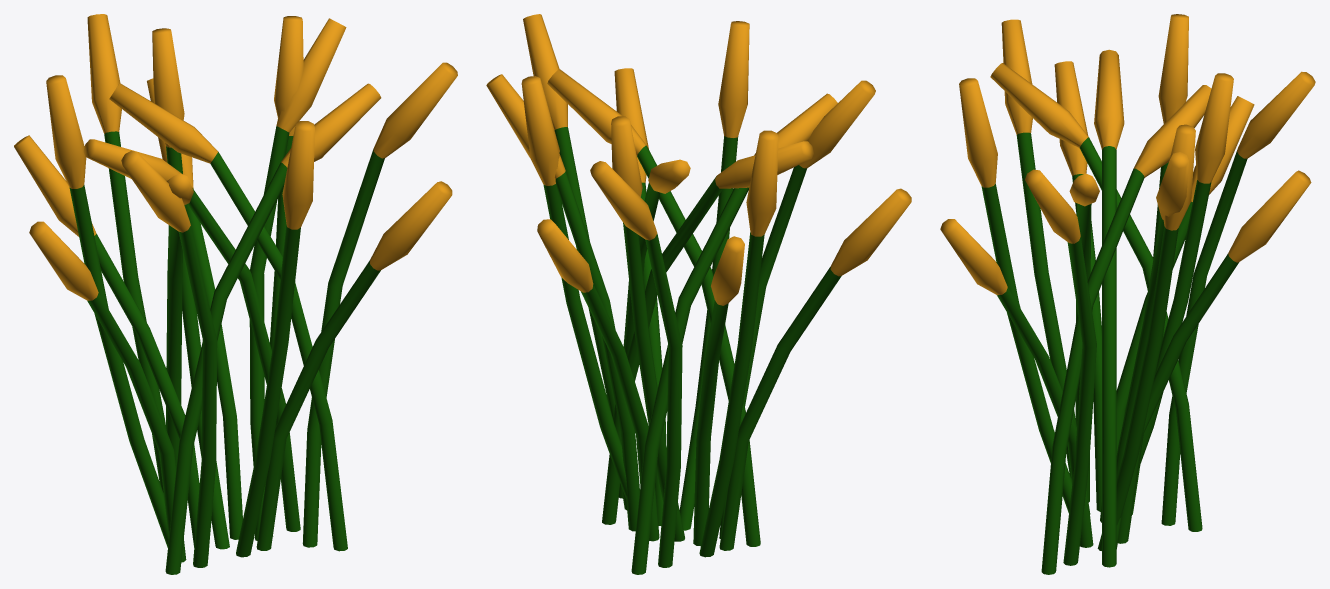
File: 05.07_Bubuia_flor2.fbx
3 views of the same model, side by side, from view 1: azimuth 30°, elevation 25°; view 2: azimuth 150°, elevation 25°; view 3: azimuth 270°, elevation 25° (orthographic). The views are drawn at different scales.
Parts seen in each view (by area): view 1: Cylinder; view 2: Cylinder; view 3: Cylinder.
Part boxes in pixels (x1=…): Cylinder: x1=14, y1=14, x2=457, y2=574; Cylinder: x1=486, y1=14, x2=911, y2=574; Cylinder: x1=940, y1=14, x2=1315, y2=574.
Bounding box in the file's own units: 12.48 × 13.73 × 10.27.
